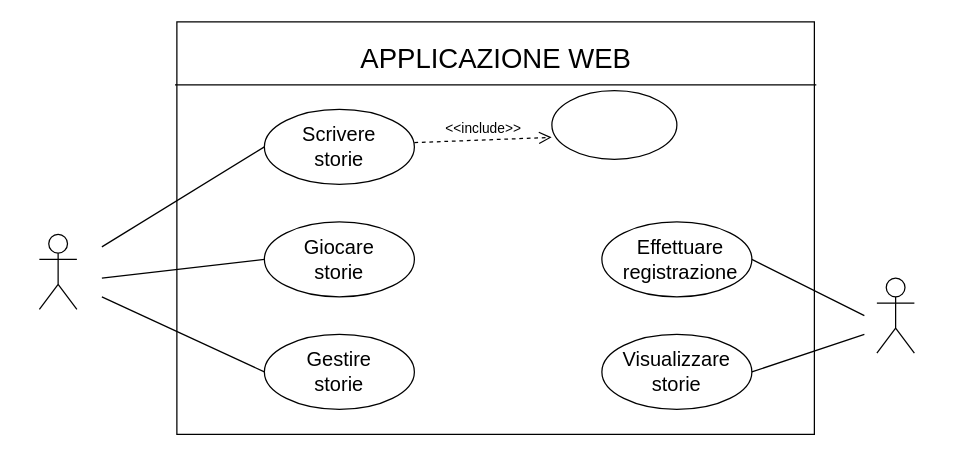
Some shapes in this 969 by 456 pixel diagram are drawn without their labels. Each missing label, with the box of its shape:
Collegare scenari: (551, 89, 677, 159)
Utente: (38, 233, 77, 309)
Visitatore: (876, 277, 914, 353)
